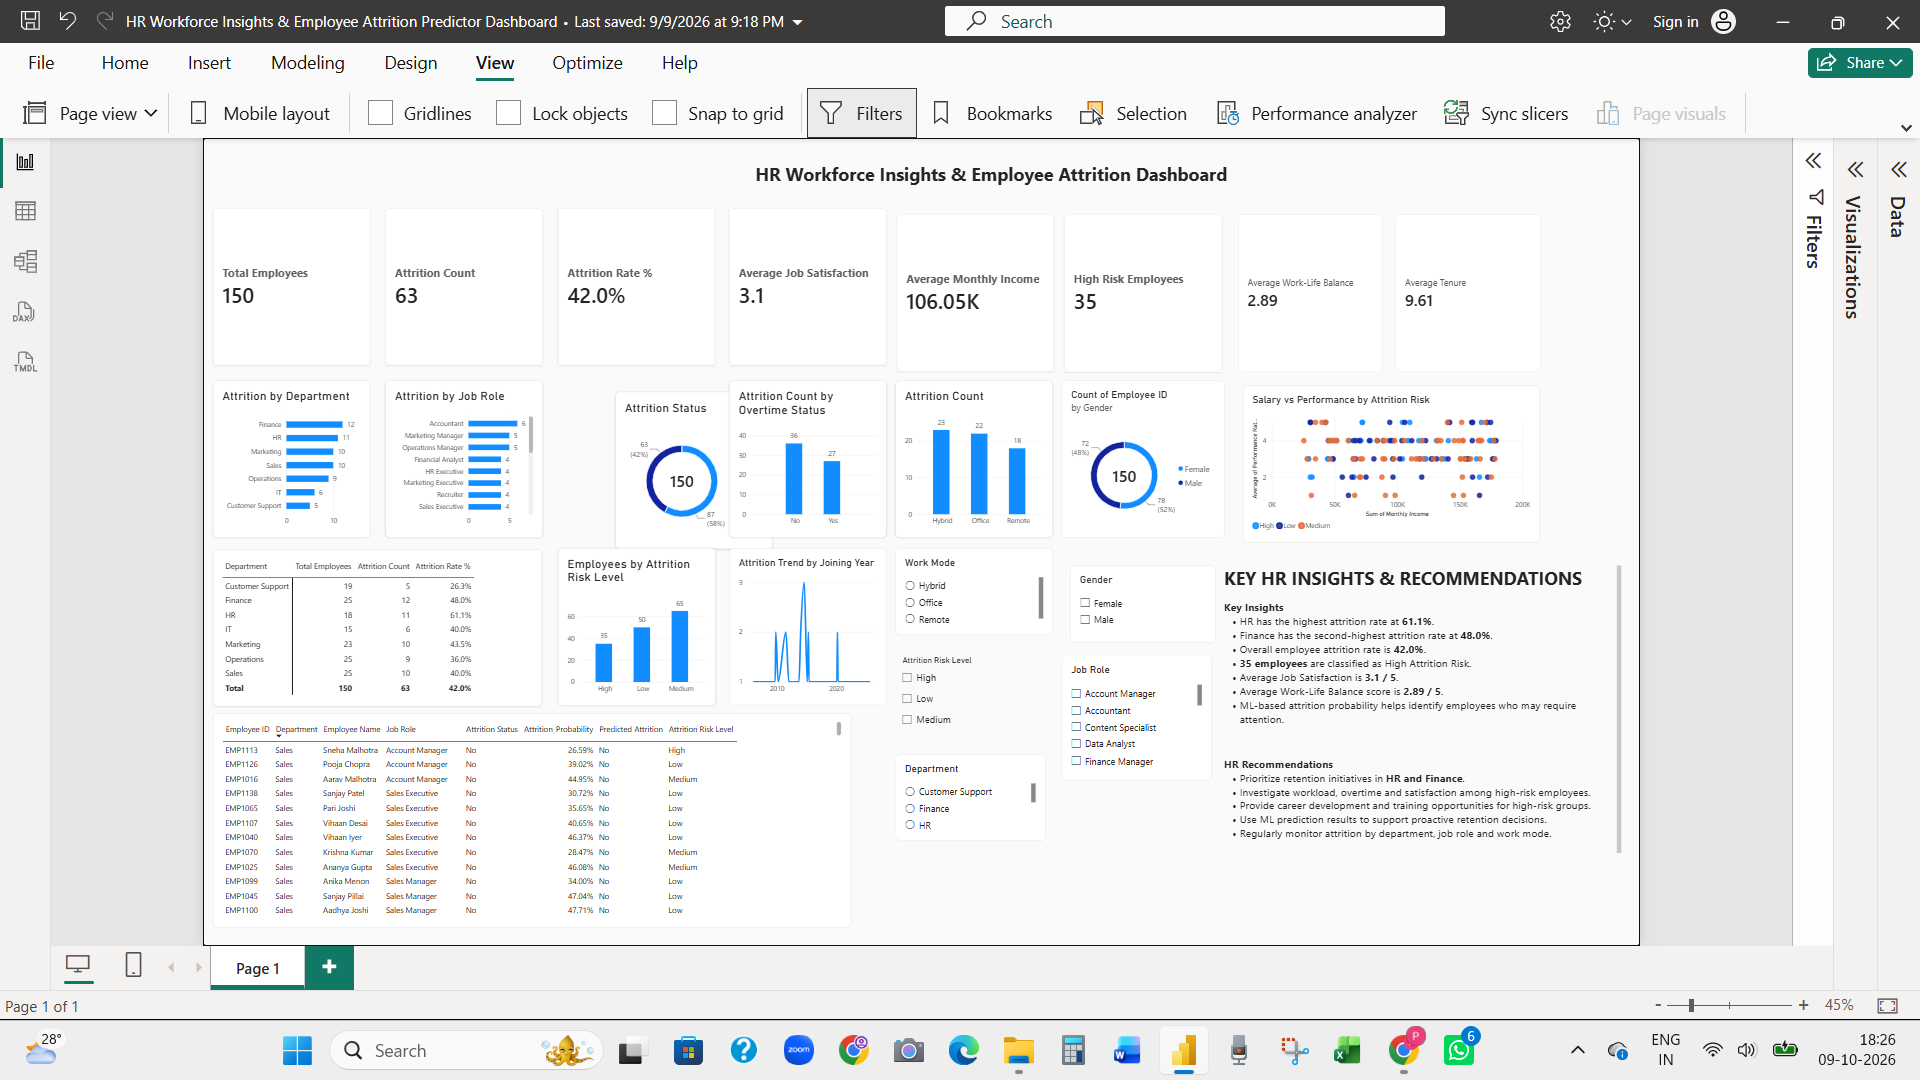

What the dashboard file says about the page in this screenshot:
{"tool":"powerbi","page":{"name":"Page 1","canvas":[2560,1440],"ordinal":0},"visuals":[{"type":"cardVisual","fields":{"Data":["Employees.Total Employees"]},"box":[18.6,124.3,280,280],"z":0},{"type":"cardVisual","fields":{"Data":["Employees.Attrition Count"]},"box":[324.3,124.3,280,280],"z":1000},{"type":"cardVisual","fields":{"Data":["Employees.Attrition Rate %"]},"box":[631.4,124.3,280,280],"z":2000},{"type":"cardVisual","fields":{"Data":["Employees.Average Job Satisfaction"]},"box":[937.1,124.3,280,280],"z":3000},{"type":"cardVisual","fields":{"Data":["Employees.Average Monthly Income"]},"box":[1235,135,280,280],"z":4000},{"type":"clusteredBarChart","title":"Attrition by Department","fields":{"Category":["Employees.Department"],"Y":["Employees.Attrition Count"]},"box":[18.6,431.4,280,280],"z":5000},{"type":"clusteredBarChart","title":"Attrition by Job Role","fields":{"Category":["Employees.Job Role"],"Y":["Employees.Attrition Count"]},"box":[324.3,431.4,280,280],"z":6000},{"type":"donutChart","title":"Attrition Status","fields":{"Category":["Employees.Attrition Status"],"Y":["Employees.Total Employees"]},"box":[735.6,451.1,280,280],"z":7000},{"type":"clusteredColumnChart","title":"Attrition Count by Overtime Status","fields":{"Category":["Employees.Overtime Status"],"Y":["Employees.Attrition Count"]},"box":[937.1,431.4,280,280],"z":8000},{"type":"clusteredColumnChart","title":"Attrition Count","fields":{"Category":["Employees.Work Mode"],"Y":["Employees.Attrition Count"]},"box":[1234.3,431.4,280,280],"z":9000},{"type":"pivotTable","fields":{"Rows":["Employees.Department"],"Values":["Employees.Total Employees","Employees.Attrition Count","Employees.Attrition Rate %"]},"box":[18.6,731.4,585.7,280],"z":10000},{"type":"listSlicer","fields":{"Values":["Employees.Department"]},"box":[1234.3,1098.6,267.8,153.8],"z":11000},{"type":"listSlicer","fields":{"Values":["Employees.Gender"]},"box":[1545.7,761.4,258.8,137.5],"z":12000},{"type":"listSlicer","fields":{"Values":["Employees.Work Mode"]},"box":[1234.4,731.1,280,155.6],"z":13000},{"type":"textbox","box":[209.9,0,1701.1,77.2],"z":14000},{"type":"listSlicer","fields":{"Values":["Employees.Job Role"]},"box":[1530,921.4,267.5,222.5],"z":15000},{"type":"cardVisual","fields":{"Data":["Employees.High Risk Employees"]},"box":[1535,135,280.5,280.5],"z":16000},{"type":"clusteredColumnChart","title":"Employees by Attrition Risk Level","fields":{"Y":["Employees.Total Employees"],"Category":["Employees.Attrition Risk Level"]},"box":[631.2,731.2,280.5,280.5],"z":17000},{"type":"slicer","fields":{"Values":["Employees.Attrition Risk Level"]},"box":[1238.6,921.4,276.7,134.4],"z":18000},{"type":"lineChart","title":"Attrition Trend by Joining Year","fields":{"Category":["Employees.Joining Date.Variation.Date Hierarchy.Year"],"Y":["Employees.Attrition Count"]},"box":[936.7,731.1,280,280],"z":19000},{"type":"tableEx","fields":{"Values":["Employee_ML_Prediction.Value.Employee ID","Employee_ML_Prediction.Value.Department","Employee_ML_Prediction.Value.Employee Name","Employee_ML_Prediction.Value.Job Role","Employee_ML_Prediction.Value.Attrition Status","Employee_ML_Prediction.Attrition_Probability","Employee_ML_Prediction.Predicted Attrition","Employee_ML_Prediction.Value.Attrition Risk Level"]},"box":[18.9,1023.3,1136.7,382.2],"z":20000},{"type":"cardVisual","fields":{"Data":["Employees.Average Work-Life Balance"]},"box":[1844.3,135.7,258.6,280],"z":21000},{"type":"cardVisual","fields":{"Data":["Employees.Average Tenure"]},"box":[2123.5,136,259,280],"z":22000},{"type":"donutChart","fields":{"Category":["Employees.Gender"],"Y":["CountNonNull(Employees.Employee ID)"]},"box":[1530,431,290,280],"z":23000},{"type":"scatterChart","title":"Salary vs Performance by Attrition Risk","fields":{"X":["Sum(Employees.Monthly Income)"],"Y":["Avg(Employees.Performance Rating)"],"Category":["Employees.Employee ID"],"Series":["Employees.Attrition Risk Level"]},"box":[1853.3,440,529,280],"z":24000},{"type":"textbox","box":[1820,761.2,707.5,527.5],"z":25000}]}

Visuals, with their boxes on the page's 2560x1440 design canvas (x1, y1, x2, y2). These are canvas units, not pixel positions in the 1920x1080 screenshot, which may show the page scaled, cropped or inside an application window:
cardVisual - Employees.Total Employees: {"x1": 19, "y1": 124, "x2": 299, "y2": 404}
cardVisual - Employees.Attrition Count: {"x1": 324, "y1": 124, "x2": 604, "y2": 404}
cardVisual - Employees.Attrition Rate %: {"x1": 631, "y1": 124, "x2": 911, "y2": 404}
cardVisual - Employees.Average Job Satisfaction: {"x1": 937, "y1": 124, "x2": 1217, "y2": 404}
cardVisual - Employees.Average Monthly Income: {"x1": 1235, "y1": 135, "x2": 1515, "y2": 415}
"Attrition by Department" clusteredBarChart: {"x1": 19, "y1": 431, "x2": 299, "y2": 711}
"Attrition by Job Role" clusteredBarChart: {"x1": 324, "y1": 431, "x2": 604, "y2": 711}
"Attrition Status" donutChart: {"x1": 736, "y1": 451, "x2": 1016, "y2": 731}
"Attrition Count by Overtime Status" clusteredColumnChart: {"x1": 937, "y1": 431, "x2": 1217, "y2": 711}
"Attrition Count" clusteredColumnChart: {"x1": 1234, "y1": 431, "x2": 1514, "y2": 711}
pivotTable - Employees.Department x Employees.Total Employees: {"x1": 19, "y1": 731, "x2": 604, "y2": 1011}
listSlicer - Employees.Department: {"x1": 1234, "y1": 1099, "x2": 1502, "y2": 1252}
listSlicer - Employees.Gender: {"x1": 1546, "y1": 761, "x2": 1804, "y2": 899}
listSlicer - Employees.Work Mode: {"x1": 1234, "y1": 731, "x2": 1514, "y2": 887}
textbox: {"x1": 210, "y1": 0, "x2": 1911, "y2": 77}
listSlicer - Employees.Job Role: {"x1": 1530, "y1": 921, "x2": 1798, "y2": 1144}
cardVisual - Employees.High Risk Employees: {"x1": 1535, "y1": 135, "x2": 1816, "y2": 416}
"Employees by Attrition Risk Level" clusteredColumnChart: {"x1": 631, "y1": 731, "x2": 912, "y2": 1012}
slicer - Employees.Attrition Risk Level: {"x1": 1239, "y1": 921, "x2": 1515, "y2": 1056}
"Attrition Trend by Joining Year" lineChart: {"x1": 937, "y1": 731, "x2": 1217, "y2": 1011}
tableEx - Employee_ML_Prediction.Value.Employee ID x Employee_ML_Prediction.Value.Department: {"x1": 19, "y1": 1023, "x2": 1156, "y2": 1406}
cardVisual - Employees.Average Work-Life Balance: {"x1": 1844, "y1": 136, "x2": 2103, "y2": 416}
cardVisual - Employees.Average Tenure: {"x1": 2124, "y1": 136, "x2": 2382, "y2": 416}
donutChart - Employees.Gender x CountNonNull(Employees.Employee ID): {"x1": 1530, "y1": 431, "x2": 1820, "y2": 711}
"Salary vs Performance by Attrition Risk" scatterChart: {"x1": 1853, "y1": 440, "x2": 2382, "y2": 720}
textbox: {"x1": 1820, "y1": 761, "x2": 2528, "y2": 1289}
